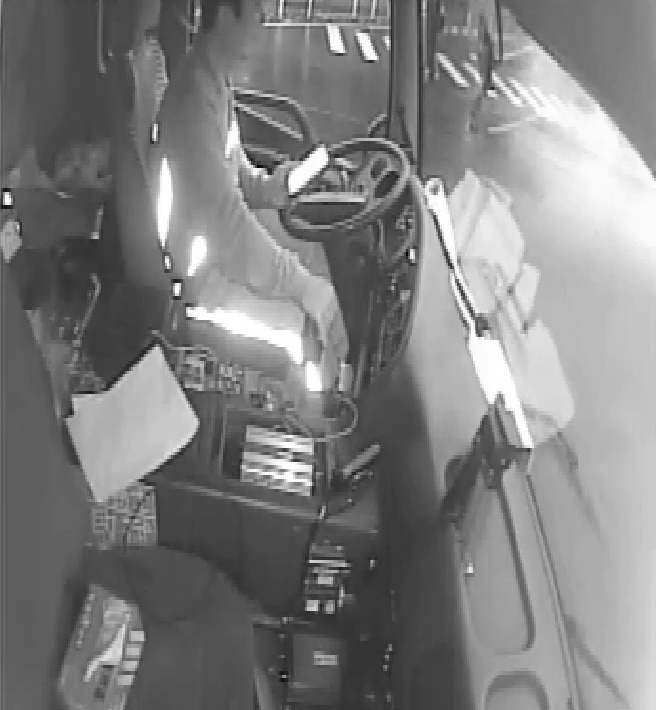cellphone: (281, 142, 334, 199)
